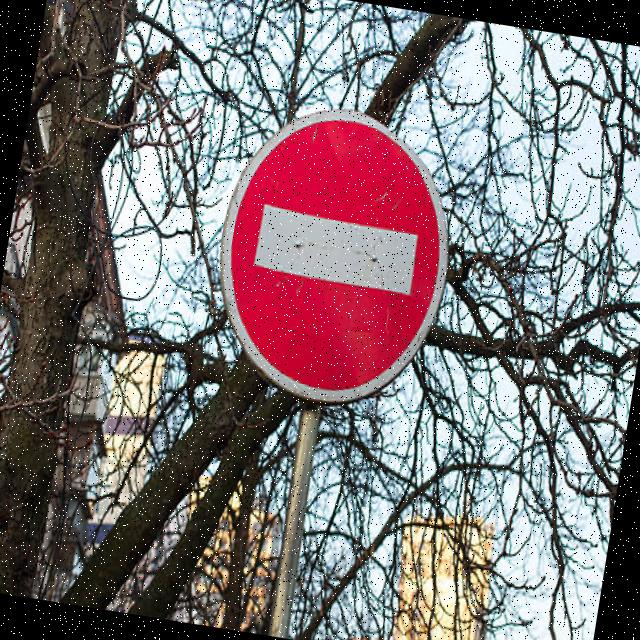do_not_enter: (187, 85, 476, 434)
